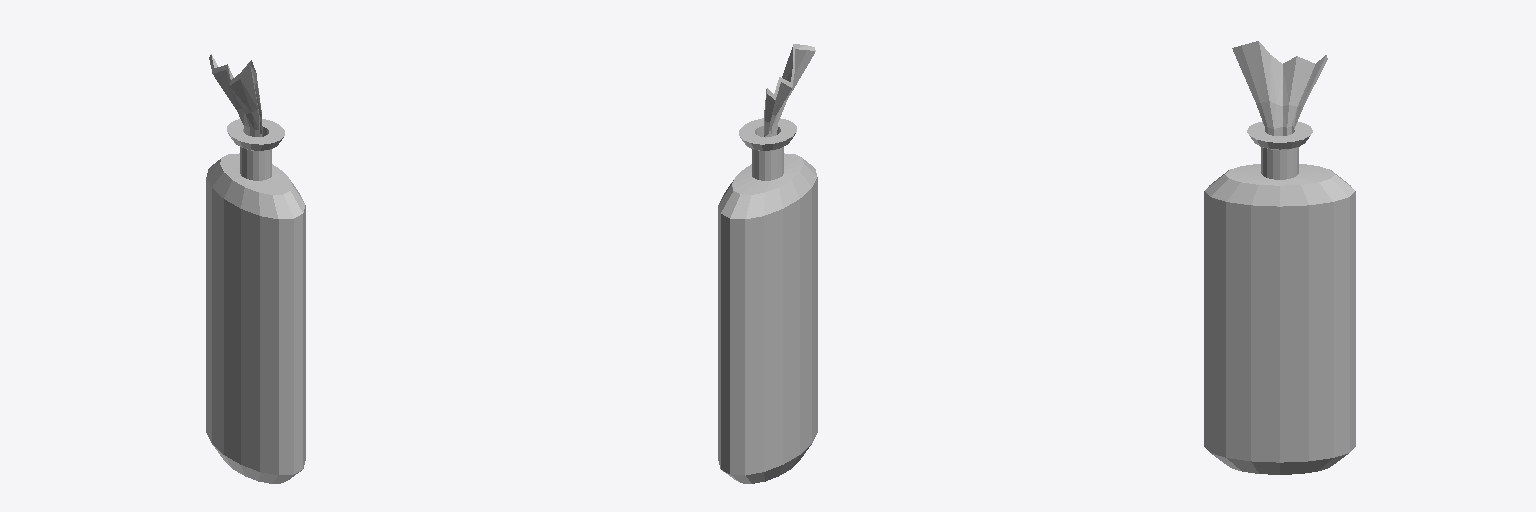
Rendered from wybuch_1.obj.
3 views of the same model, side by side, from view 1: azimuth 30°, elevation 25°; view 2: azimuth 150°, elevation 25°; view 3: azimuth 270°, elevation 25° (orthographic).
Visible parts, largest first — view 1: Plane; view 2: Plane; view 3: Plane.
Boxes of the visible parts, box(x1,y1,x2,y2) form: Plane: box(206, 54, 305, 483); Plane: box(718, 44, 817, 483); Plane: box(1204, 41, 1355, 474).
Size of the model in its own units: 0.1774 by 1.09 by 0.3609.